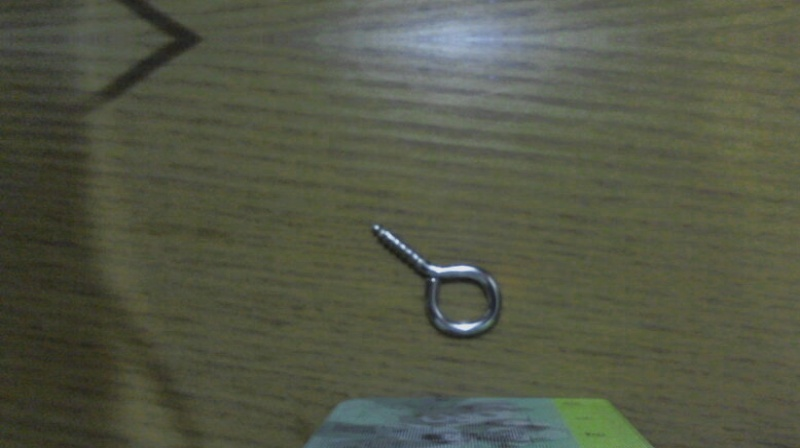O001: (368, 217, 507, 342)
